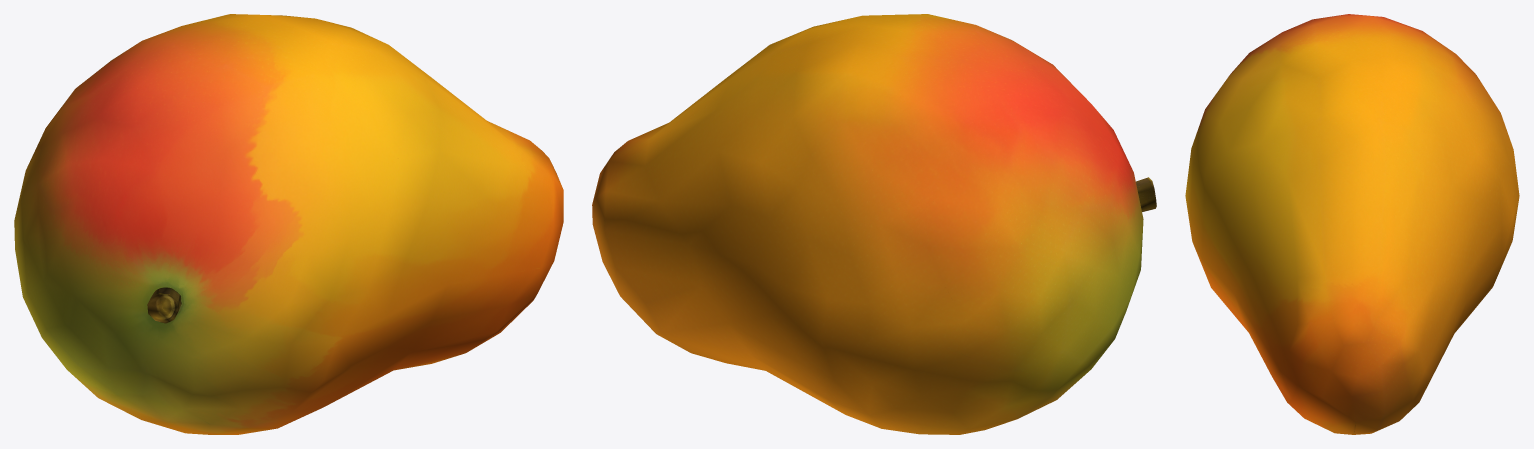
File: Pear.fbx
The picture shows the model from 3 angles, left to right: view 1: azimuth 30°, elevation 25°; view 2: azimuth 150°, elevation 25°; view 3: azimuth 270°, elevation 25°; orthographic projection. The views are drawn at different scales.
Visible parts, largest first — view 1: mesh_node; view 2: mesh_node; view 3: mesh_node.
Boxes of the visible parts, bbox=[...] form: mesh_node: bbox=[14, 14, 563, 434]; mesh_node: bbox=[592, 14, 1156, 434]; mesh_node: bbox=[1185, 14, 1519, 434].
Size of the model in its own units: 100 by 72.66 by 66.41.
Materials: 1 (1 with a texture image).
